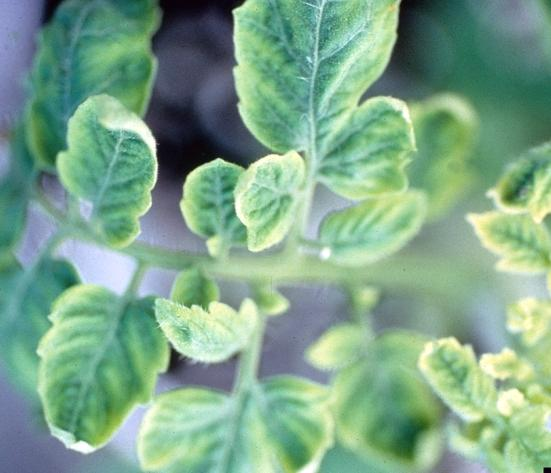Tomato leaf yellow virus: (229, 0, 420, 149), (28, 286, 174, 461), (137, 374, 334, 473), (57, 98, 162, 249), (308, 78, 427, 203), (307, 191, 456, 268), (416, 325, 514, 437), (168, 157, 256, 269), (230, 153, 319, 254), (152, 284, 263, 363), (465, 205, 551, 280)
